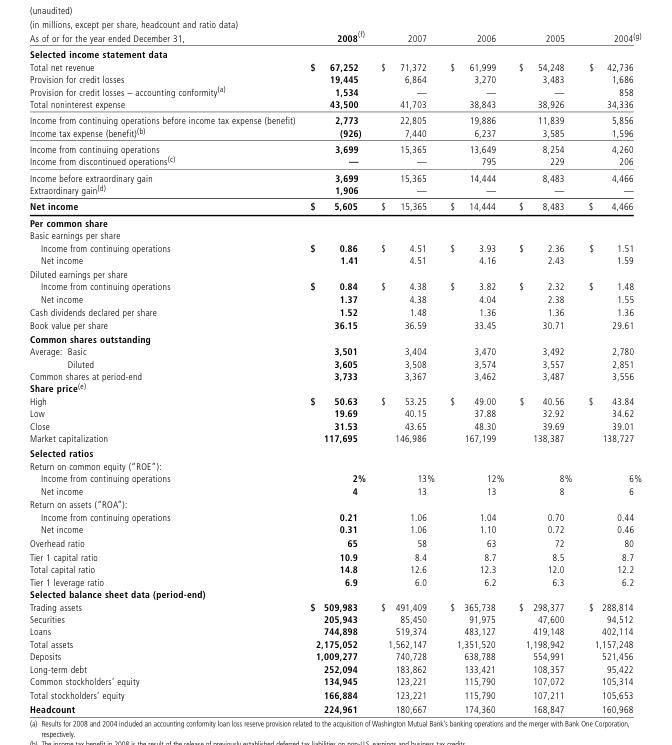table: (28, 29, 641, 714)
table column: (28, 29, 302, 714), (302, 29, 372, 714), (372, 29, 441, 714), (441, 29, 510, 714), (510, 29, 579, 714), (579, 29, 641, 714)
table column header: (28, 29, 641, 45)
table projected row header: (28, 45, 641, 60), (28, 214, 641, 228), (28, 445, 641, 459), (28, 228, 641, 241), (28, 266, 641, 279), (28, 331, 641, 344), (28, 381, 641, 394), (28, 497, 641, 510), (28, 459, 641, 471), (28, 587, 641, 599)
table row: (28, 29, 641, 45), (28, 182, 641, 198), (28, 198, 641, 214), (28, 45, 641, 60), (28, 125, 641, 140), (28, 154, 641, 169), (28, 97, 641, 111), (28, 111, 641, 125), (28, 140, 641, 154), (28, 214, 641, 228), (28, 431, 641, 445), (28, 445, 641, 459), (28, 535, 641, 549), (28, 687, 641, 701), (28, 84, 641, 97), (28, 169, 641, 182), (28, 228, 641, 241), (28, 253, 641, 266), (28, 266, 641, 279), (28, 279, 641, 292), (28, 292, 641, 305), (28, 305, 641, 318), (28, 318, 641, 331), (28, 331, 641, 344), (28, 344, 641, 357), (28, 381, 641, 394), (28, 406, 641, 419), (28, 471, 641, 484), (28, 484, 641, 497), (28, 497, 641, 510), (28, 522, 641, 535), (28, 549, 641, 562), (28, 562, 641, 575), (28, 599, 641, 612), (28, 624, 641, 637), (28, 649, 641, 662), (28, 674, 641, 687), (28, 701, 641, 714), (28, 60, 641, 72), (28, 72, 641, 84), (28, 241, 641, 253), (28, 357, 641, 369), (28, 369, 641, 381), (28, 394, 641, 406), (28, 419, 641, 431), (28, 459, 641, 471), (28, 510, 641, 522), (28, 575, 641, 587), (28, 587, 641, 599), (28, 612, 641, 624), (28, 637, 641, 649), (28, 662, 641, 674)
